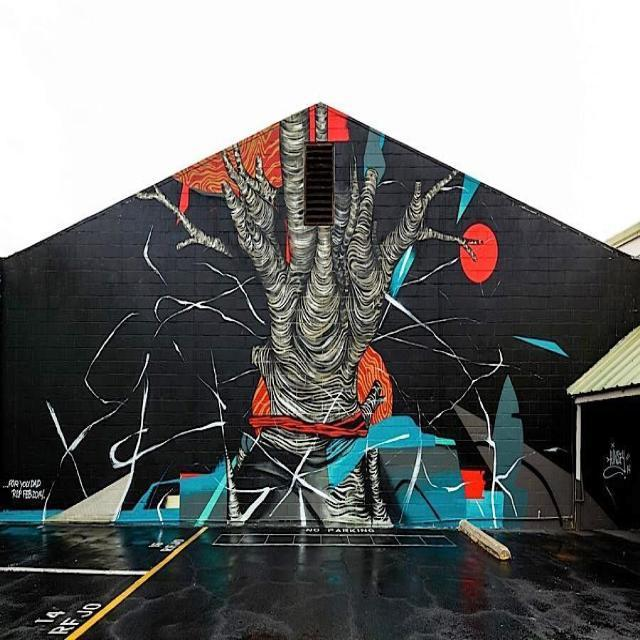-: (222, 103, 482, 526), (40, 264, 264, 468), (451, 374, 604, 524), (1, 458, 231, 530), (136, 183, 229, 260), (459, 214, 501, 291), (511, 332, 571, 366)
